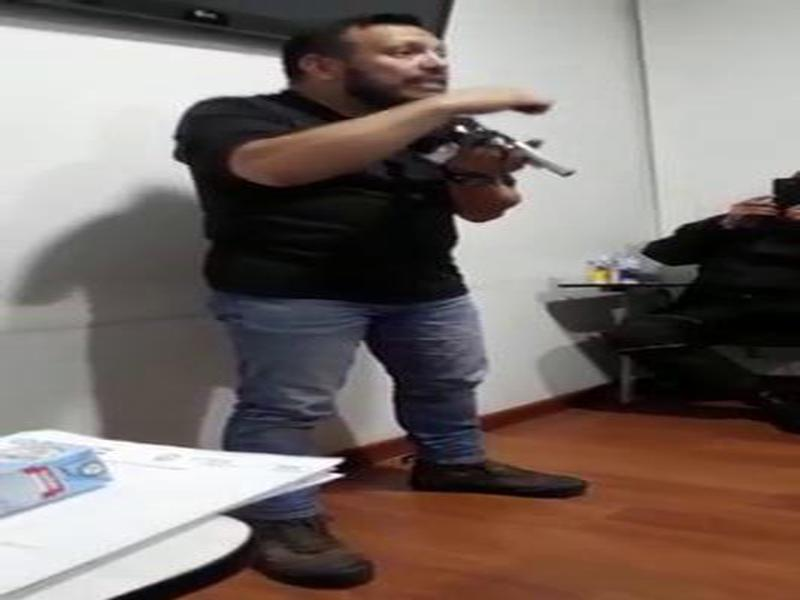Revolver: (449, 91, 591, 225)
